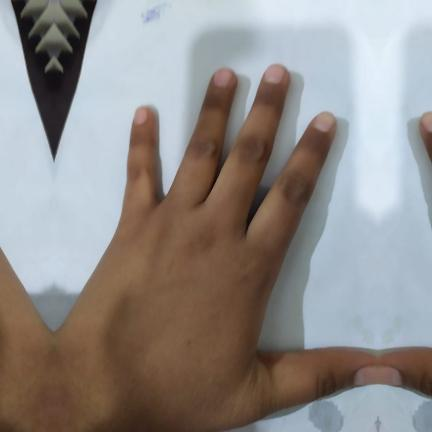Nail: (353, 367, 378, 386), (378, 367, 403, 386), (313, 112, 336, 132), (265, 64, 285, 85), (213, 68, 233, 87), (135, 105, 147, 125), (420, 112, 432, 132)
